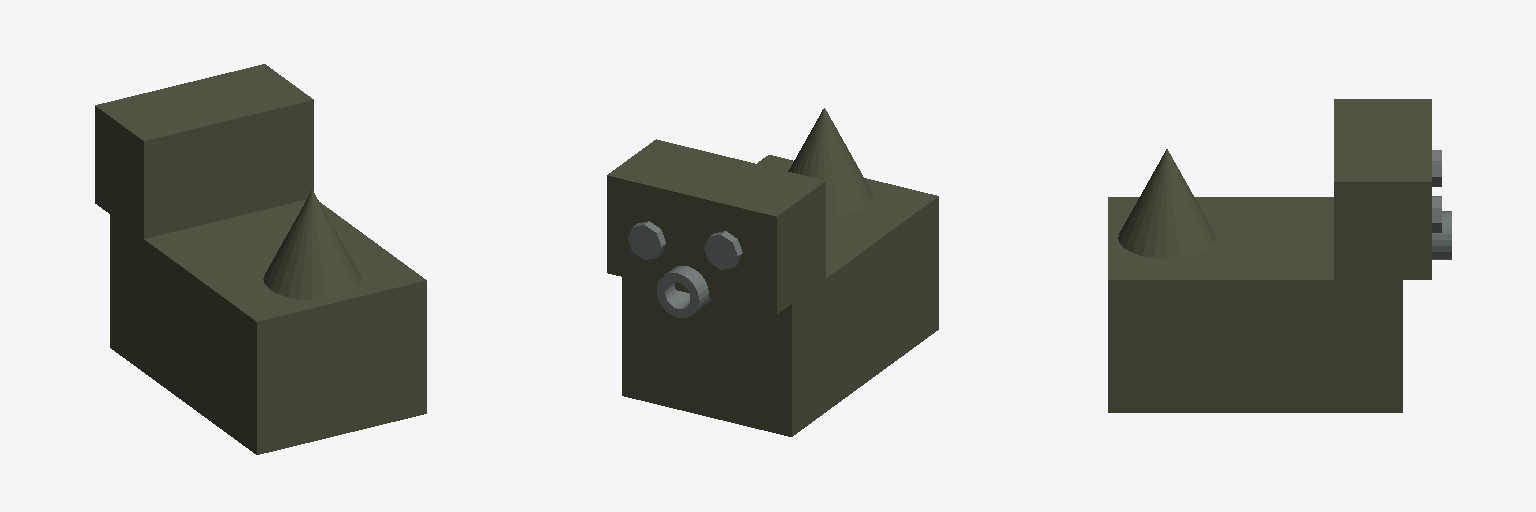
The model's file is cardbot1.obj.
3 views of the same model, side by side, from view 1: azimuth 30°, elevation 25°; view 2: azimuth 150°, elevation 25°; view 3: azimuth 270°, elevation 25° (orthographic).
Parts seen in each view (by area): view 1: mergedBlocks; view 2: mergedBlocks; view 3: mergedBlocks.
Part boxes in pixels (left/top/right/bottom): mergedBlocks: left=95, top=64, right=426, bottom=454; mergedBlocks: left=607, top=108, right=938, bottom=436; mergedBlocks: left=1108, top=99, right=1451, bottom=412.
Size of the model in its own units: 0.4 by 0.52 by 0.7.